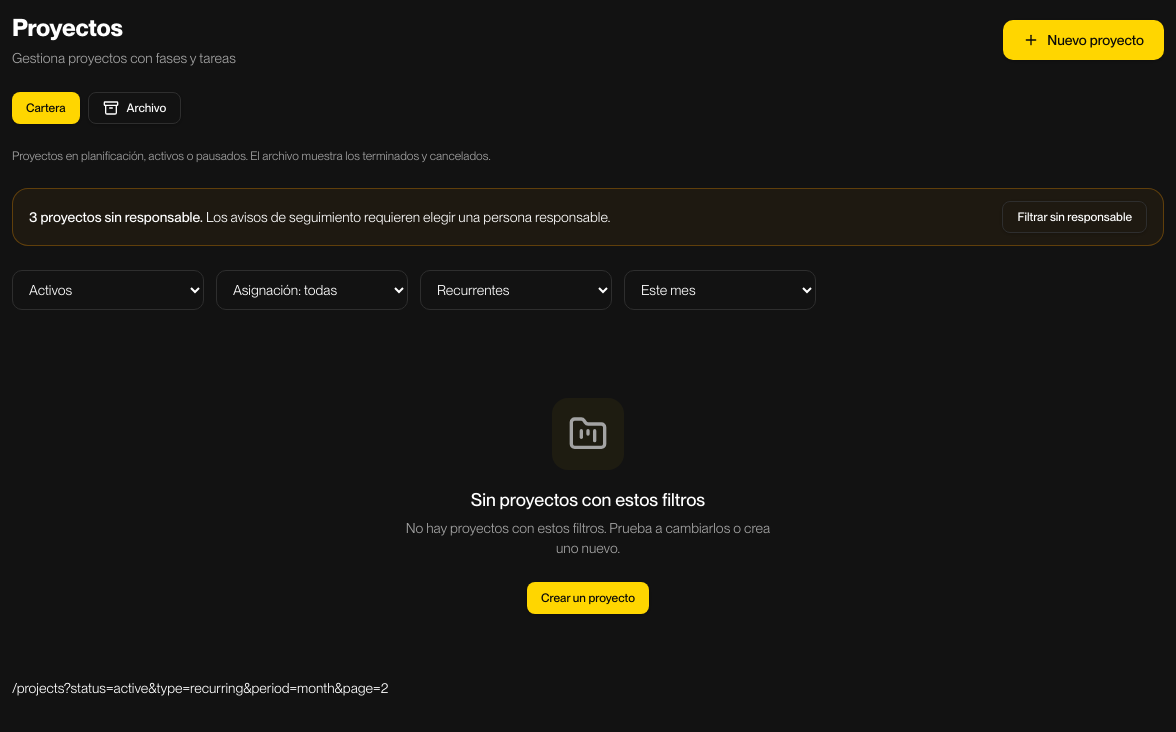
it: projects filter navigation › surfaces unassigned projects and filters them across the server cohort
expect the text "3 proyectos sin responsable." is shown: met, box [29,209,203,225]
expect the text "Los avisos de seguimiento requieren" is shown: met, box [203,209,610,225]
Click the button "Filtrar sin responsable" at (1075, 217), box [1002,201,1147,233]
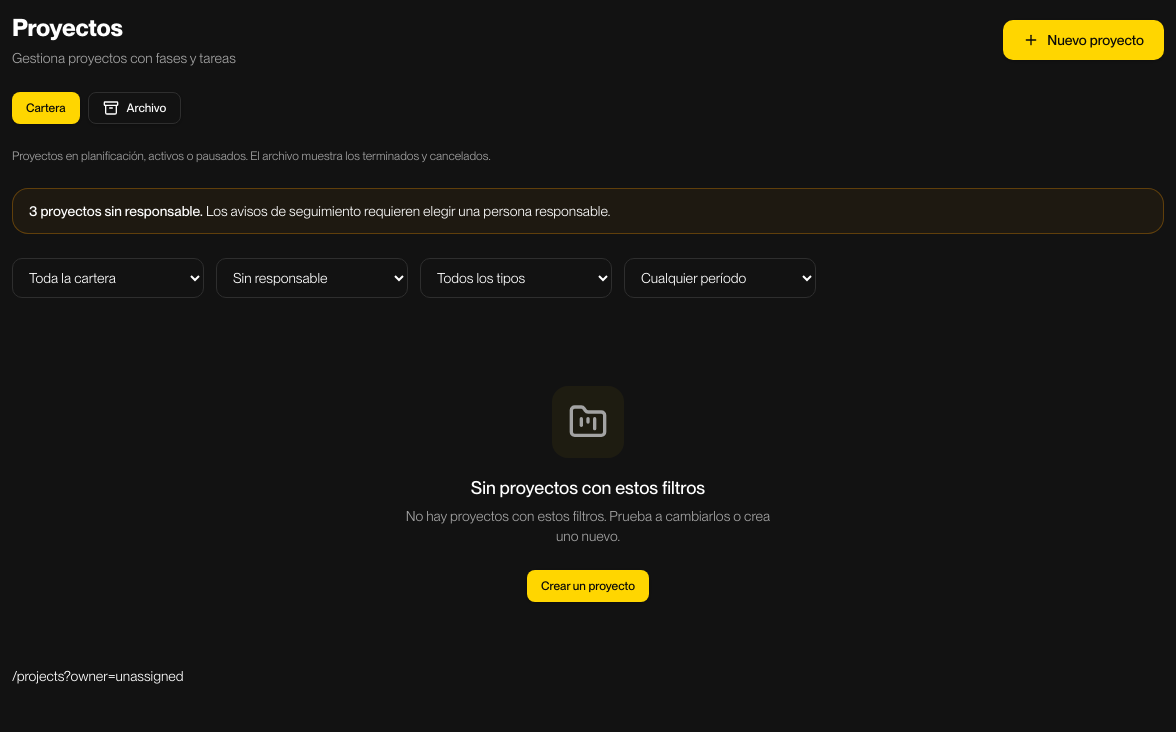
expect the text with test id "location" reads "/projects?owner=unassigned": met, box [12,668,184,684]
Select "Con responsable" in the dropdown named "Responsable del proyecto" at (312, 278), box [216,258,408,298]
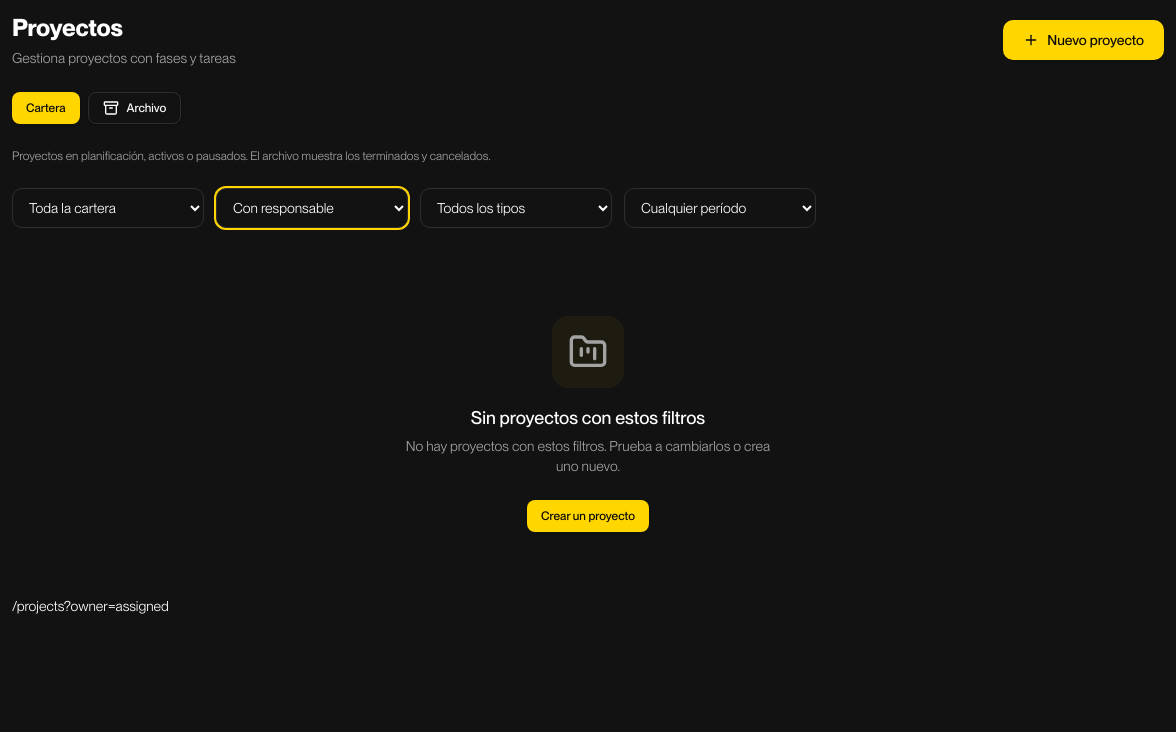
expect the text "3 proyectos sin responsable." is gone: met
